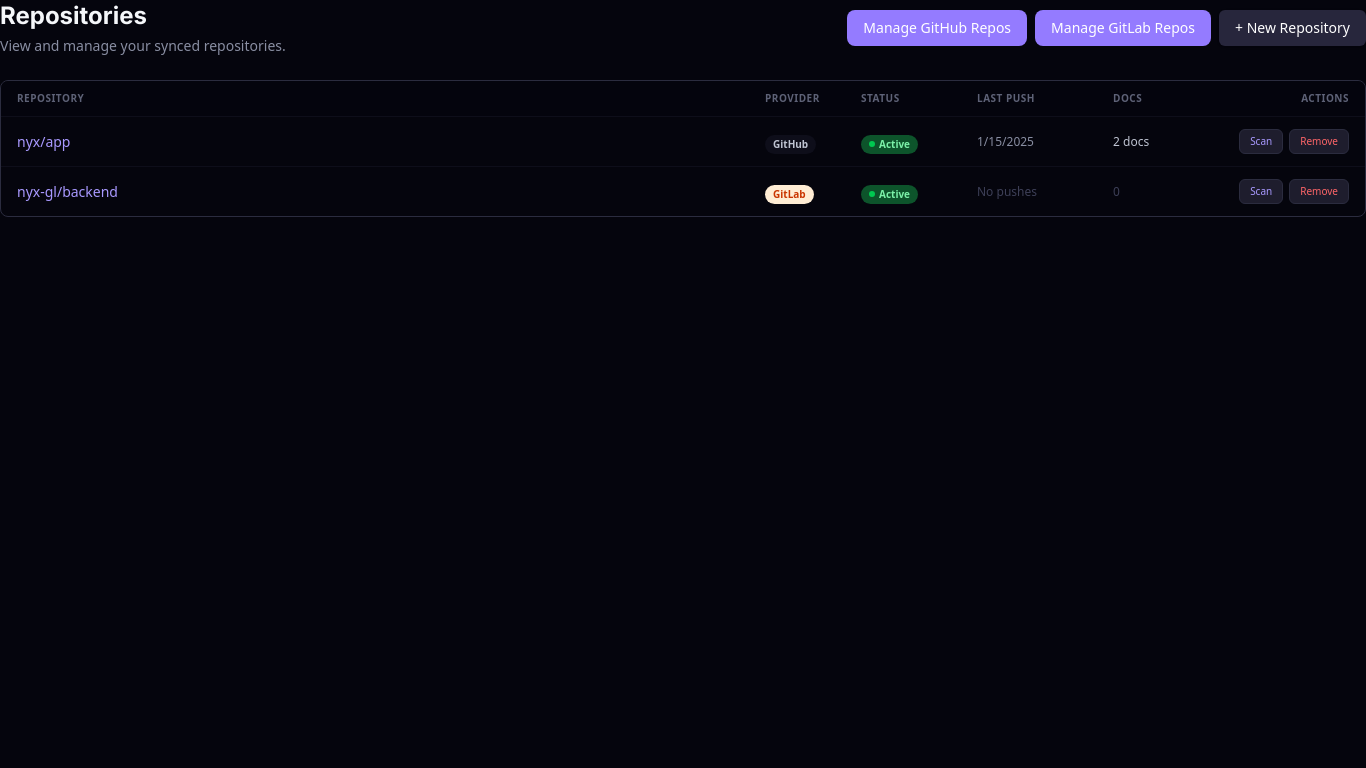
Test: Repositories — Manage Repos button › opens RepoPickerModal when Manage Repos is clicked
Click the button with test id "manage-repos-button" at point(937, 28), box [847,10,1027,46]
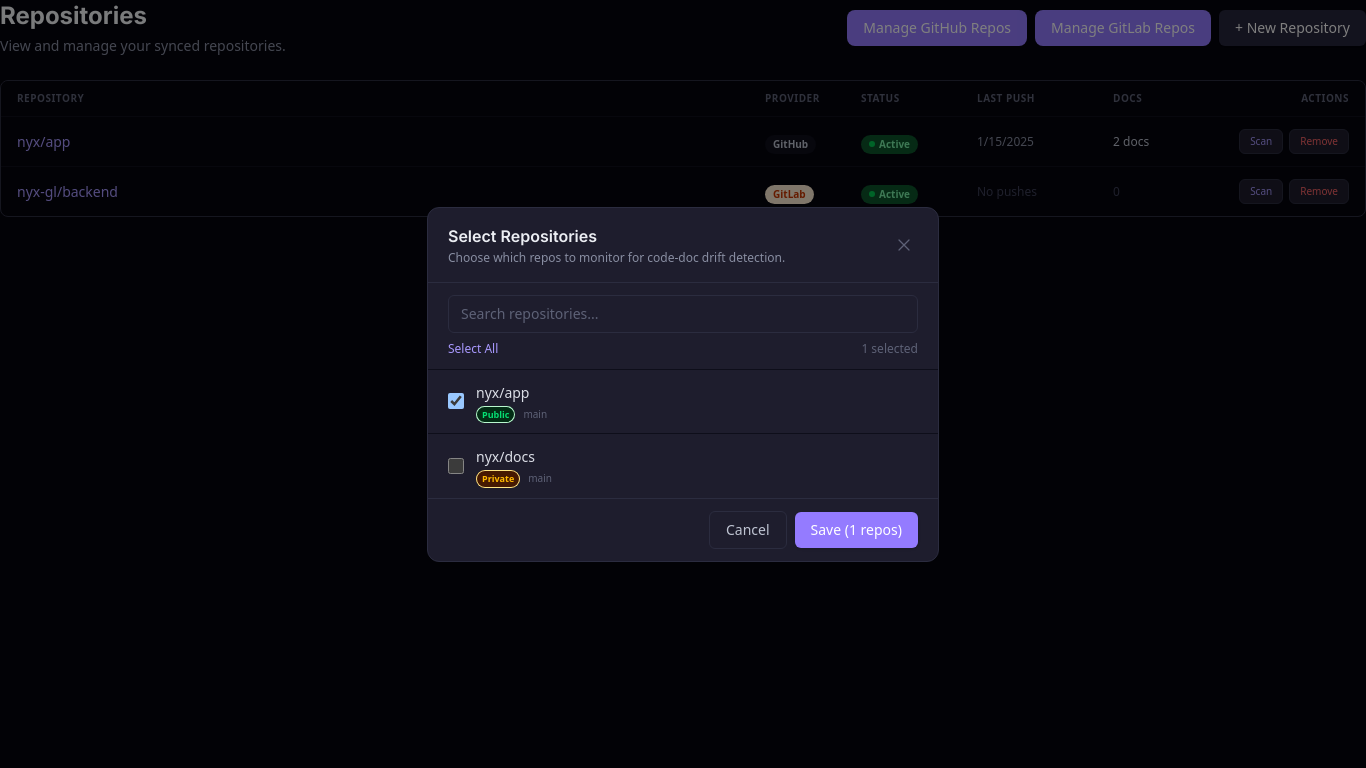
Check: the heading "Select Repositories" is shown, box [448,226,597,246]
